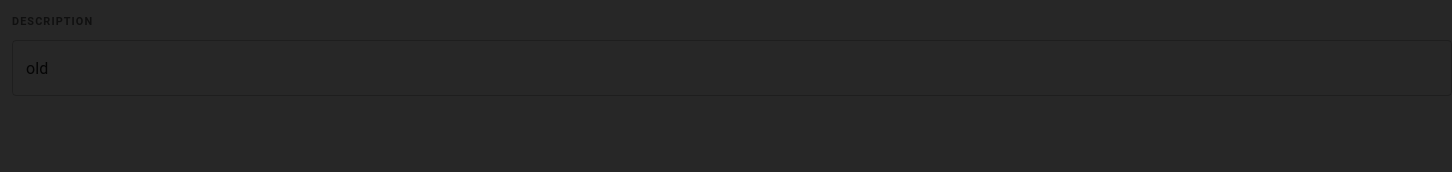
Test: DeferredTextInput editing › shows keystrokes immediately and commits the value after the delay
Replace the text in the text box named "Description" with "new text" at (732, 68), box [26,56,1438,80]
Wait 300 ms
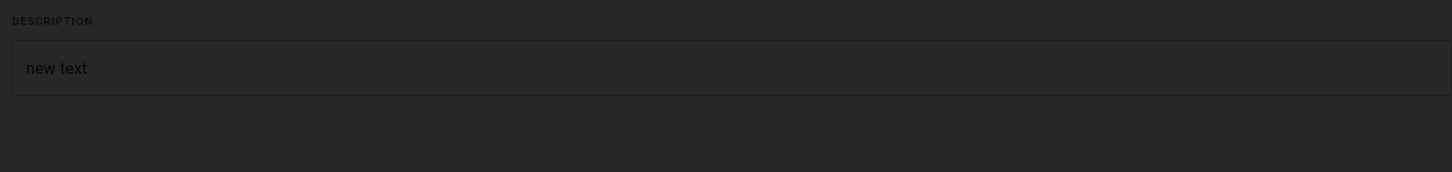
Check: the text "new text" is shown, box [26,58,87,78]
